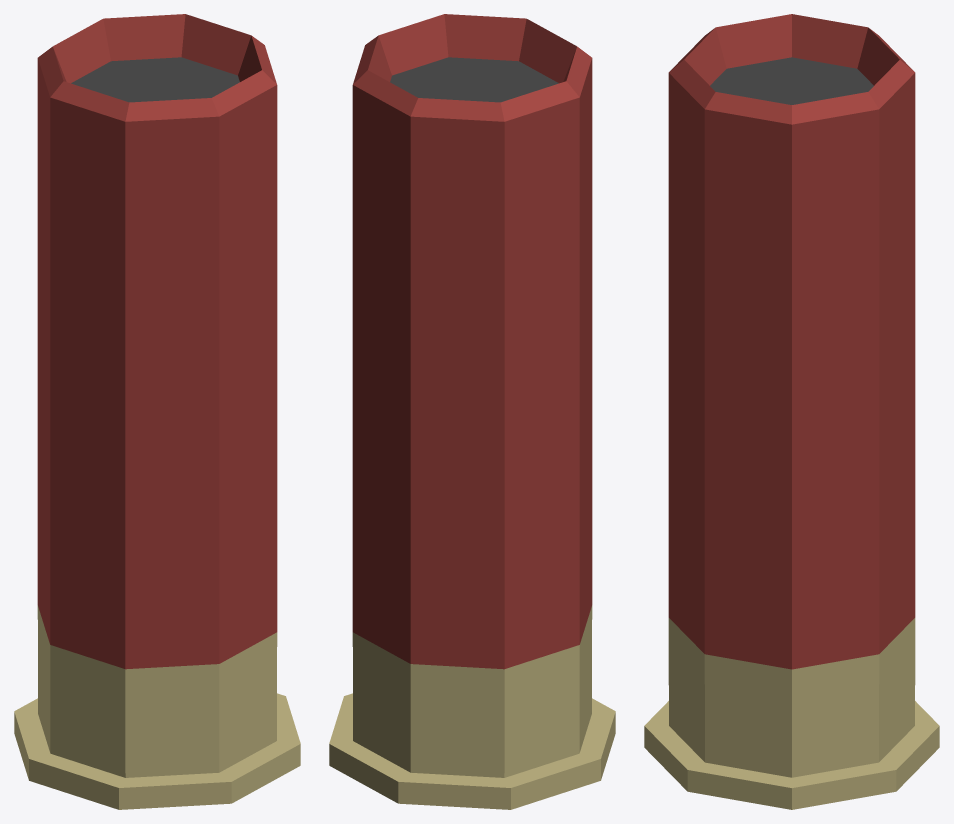
Rendered from CRTE-CHV.fbx.
The picture shows the model from 3 angles, left to right: view 1: azimuth 30°, elevation 25°; view 2: azimuth 150°, elevation 25°; view 3: azimuth 270°, elevation 25°; orthographic projection.
Visible parts, largest first — view 1: Cylinder.031; view 2: Cylinder.031; view 3: Cylinder.031.
Part boxes in pixels (x1=…): Cylinder.031: x1=14, y1=14, x2=300, y2=809; Cylinder.031: x1=329, y1=14, x2=615, y2=809; Cylinder.031: x1=644, y1=14, x2=939, y2=809.
Size of the model in its own units: 39.87 by 102 by 39.87.
